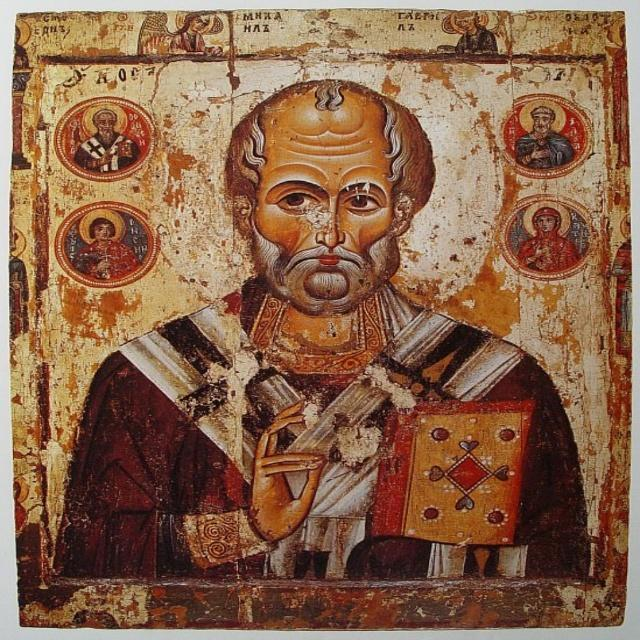angel: (428, 14, 519, 63), (132, 10, 224, 55)
aura: (163, 58, 512, 310), (82, 101, 131, 139), (522, 198, 571, 235), (78, 209, 125, 241), (521, 99, 566, 132), (446, 8, 482, 34), (174, 12, 209, 36)
book: (368, 387, 542, 556)
christ_hand: (245, 394, 330, 551)
mary: (518, 200, 581, 271)
saint: (141, 43, 521, 581), (74, 209, 147, 271), (518, 99, 572, 168), (79, 106, 135, 169)
wing: (138, 10, 170, 47), (489, 11, 514, 42)
